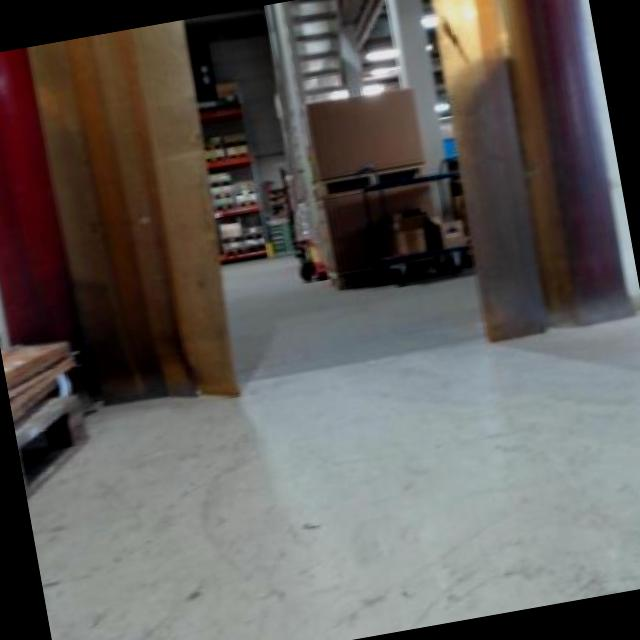pallet: (302, 150, 433, 208)
